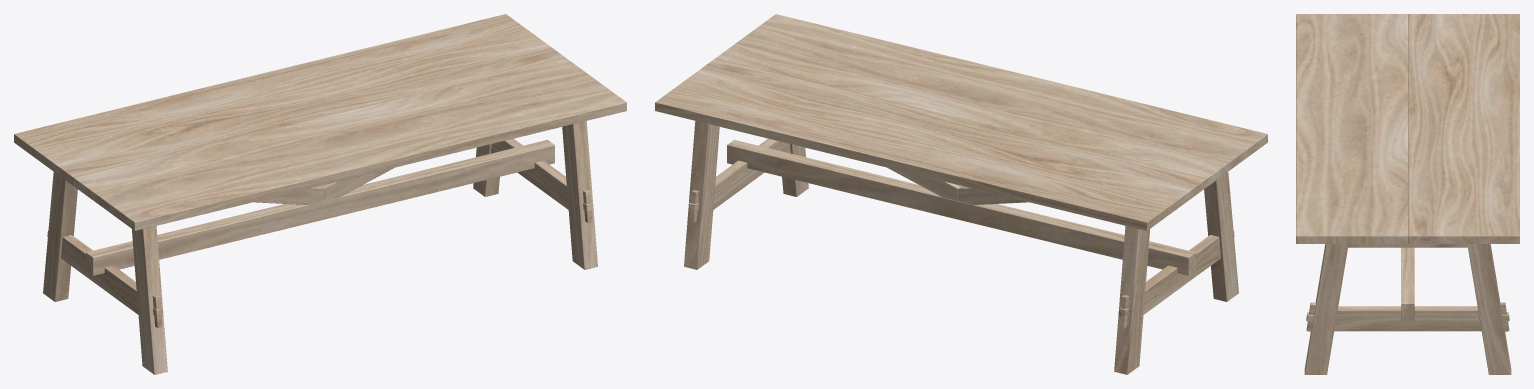
Rendered from b0-table.glb.
3 views of the same model, side by side, from view 1: azimuth 30°, elevation 25°; view 2: azimuth 150°, elevation 25°; view 3: azimuth 270°, elevation 25° (orthographic). The views are drawn at different scales.
Visible parts, largest first — view 1: Table_Untitled.010, Table.016_Untitled.027, Table.003_Untitled.005, Table.006_Untitled.014, Table.015_Untitled.026, Table.009_Untitled.017, Table.008_Untitled.016, Table.014_Untitled.024, Table.002_Untitled.002, Table.001_Untitled.000, Table.012_Untitled.020; view 2: Table.016_Untitled.027, Table_Untitled.010, Table.003_Untitled.005, Table.009_Untitled.017, Table.012_Untitled.020, Table.006_Untitled.014, Table.008_Untitled.016, Table.014_Untitled.024, Table.002_Untitled.002, Table.001_Untitled.000, Table.015_Untitled.026; view 3: Table_Untitled.010, Table.016_Untitled.027, Table.014_Untitled.024, Table.015_Untitled.026, Table.012_Untitled.020, Table.003_Untitled.005, Table.010_Untitled.018.
Part boxes in pixels (x1,y1,x2,y2): Table_Untitled.010: (74, 58, 626, 230); Table.016_Untitled.027: (14, 14, 565, 186); Table.003_Untitled.005: (86, 140, 554, 275); Table.006_Untitled.014: (132, 226, 167, 374); Table.015_Untitled.026: (562, 121, 597, 269); Table.009_Untitled.017: (43, 172, 77, 301); Table.008_Untitled.016: (61, 235, 162, 327); Table.014_Untitled.024: (491, 138, 592, 222); Table.002_Untitled.002: (320, 167, 394, 200); Table.001_Untitled.000: (253, 186, 323, 204); Table.012_Untitled.020: (473, 144, 499, 196); Table.016_Untitled.027: (655, 58, 1207, 230); Table_Untitled.010: (716, 14, 1267, 186); Table.003_Untitled.005: (727, 140, 1195, 275); Table.009_Untitled.017: (1114, 226, 1149, 374); Table.012_Untitled.020: (684, 121, 719, 269); Table.006_Untitled.014: (1204, 172, 1238, 301); Table.008_Untitled.016: (1119, 235, 1220, 327); Table.014_Untitled.024: (689, 138, 790, 222); Table.002_Untitled.002: (887, 167, 961, 200); Table.001_Untitled.000: (958, 186, 1028, 204); Table.015_Untitled.026: (782, 144, 808, 196); Table_Untitled.010: (1296, 14, 1407, 243); Table.016_Untitled.027: (1408, 14, 1519, 243); Table.014_Untitled.024: (1306, 302, 1509, 331); Table.015_Untitled.026: (1304, 244, 1348, 374); Table.012_Untitled.020: (1467, 244, 1511, 374); Table.003_Untitled.005: (1401, 247, 1414, 320); Table.010_Untitled.018: (1348, 244, 1467, 247).
Size of the model in its own units: 2.35 by 0.7389 by 0.9999.
Materials: 1 (1 with a texture image).
